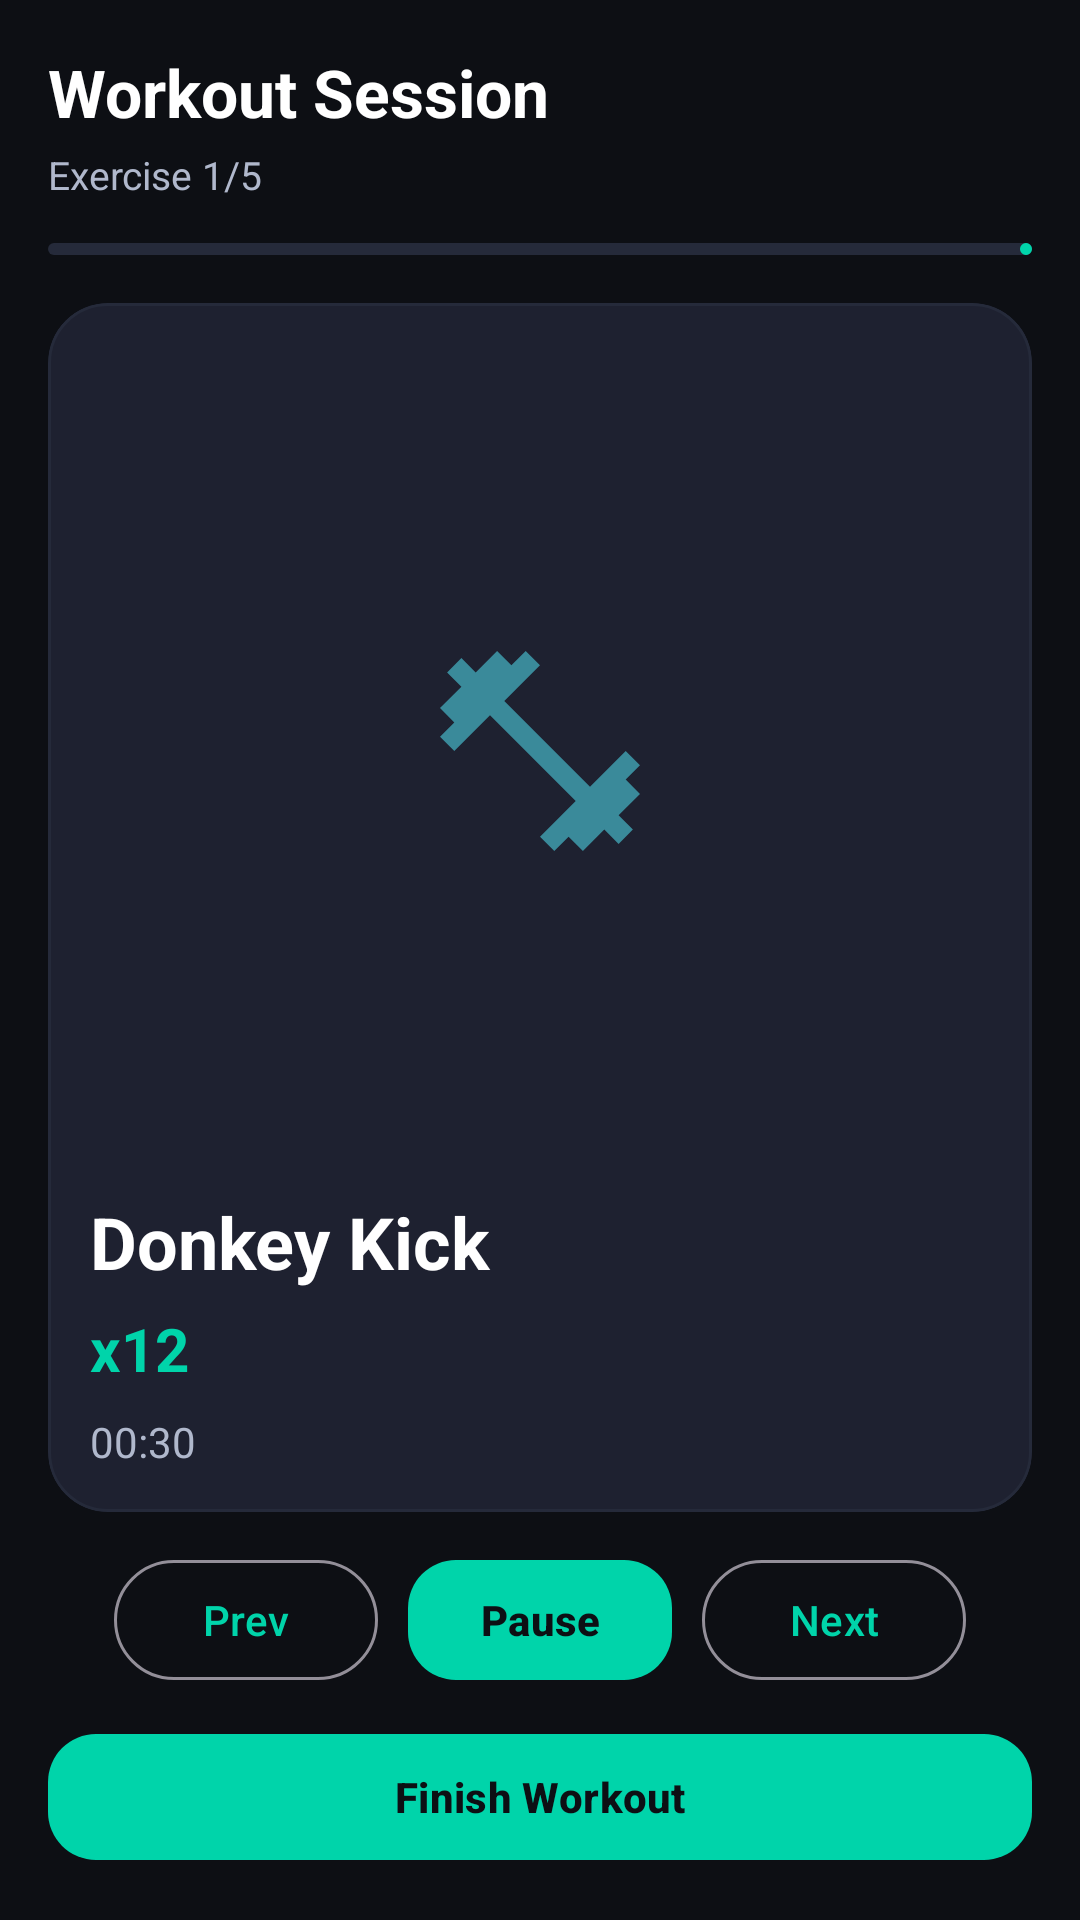

Locate icon controls on the screen. Image size 1080w x 1920h, boxes as {"left": x1, "top": y1, "right": x2, "bottom": y2}.
workout: {"left": 440, "top": 651, "right": 640, "bottom": 851}
